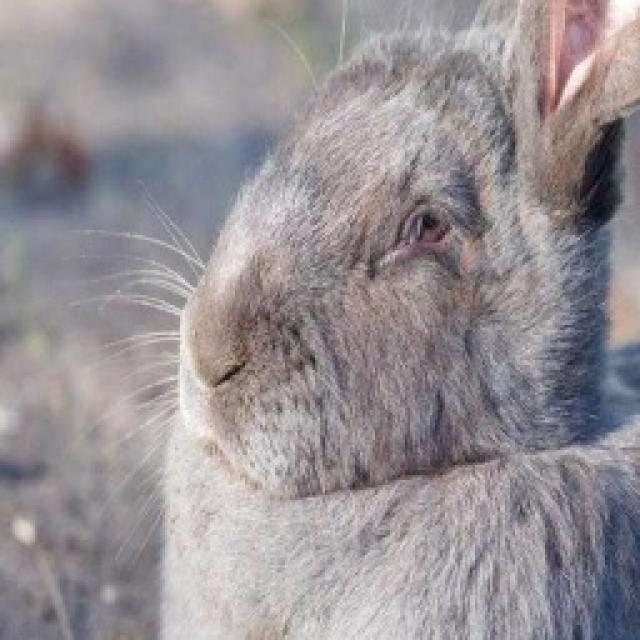not_pig: (80, 0, 638, 638)
